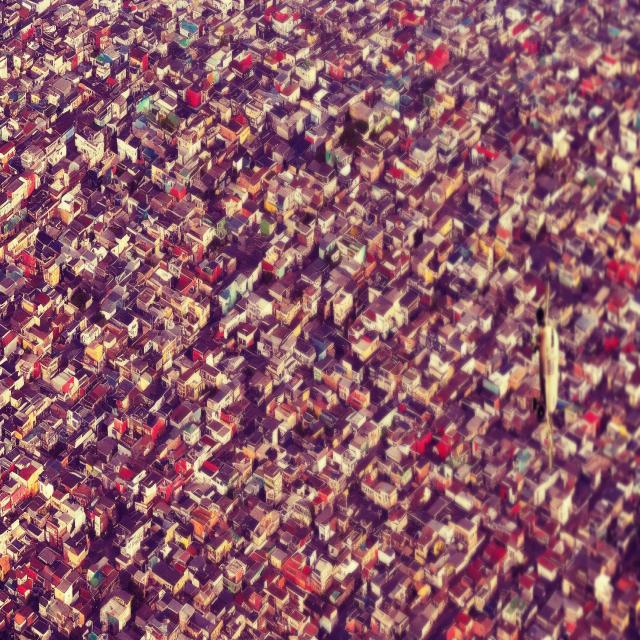airplane: (535, 283, 568, 468)
